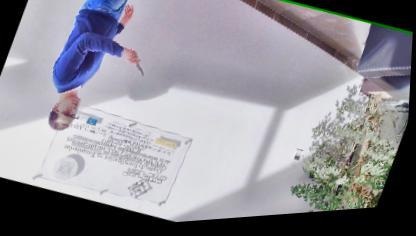knife: (121, 47, 154, 82)
